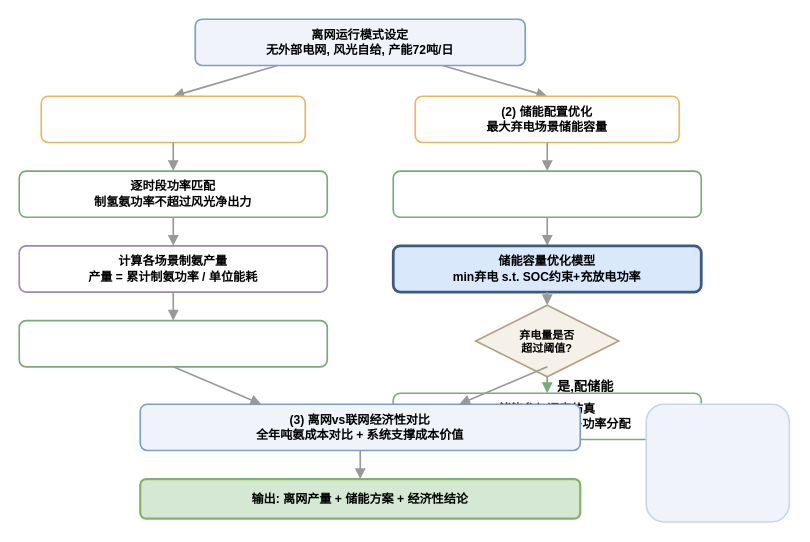
Some shapes in this 810 by 542 pixel diagram are drawn without their labels. Each missing label, with the centre of its shape:
(1) 无储能离网分析 风光直接供电制氢氨: the point at 173,119
估算最小风光装机 满足能源自给的最小容量: the point at 173,343
工具与方法 储能SOC仿真 线性规划 经济性分析 敏感性分析: the point at 717,462
识别最大弃电场景 弃电量 = 风光出力 - 可用负荷: the point at 547,194
